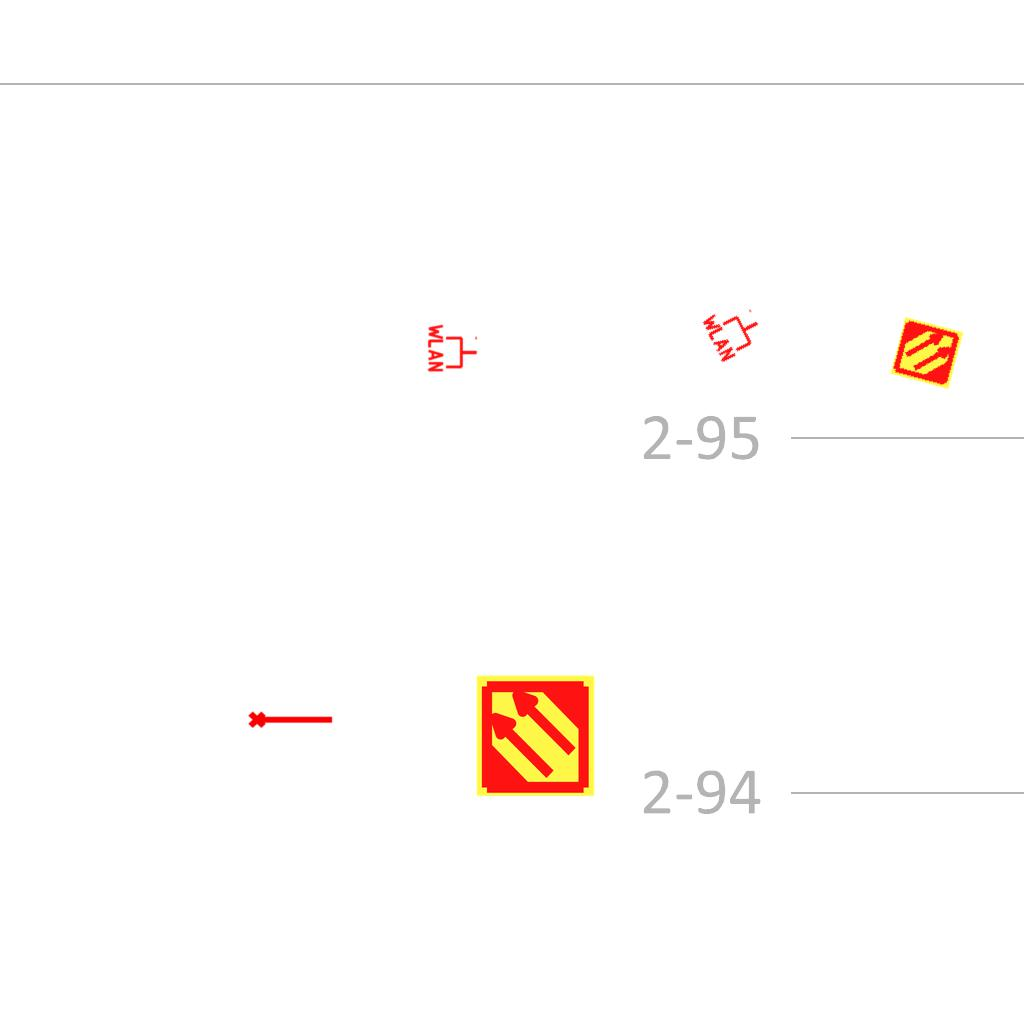ASR_Ansaugoeffnung: (247, 707, 335, 730)
ASR_Ansaugrauchmelder: (473, 673, 598, 798), (889, 315, 965, 391)
WLAN: (699, 295, 769, 365), (427, 322, 479, 374)
